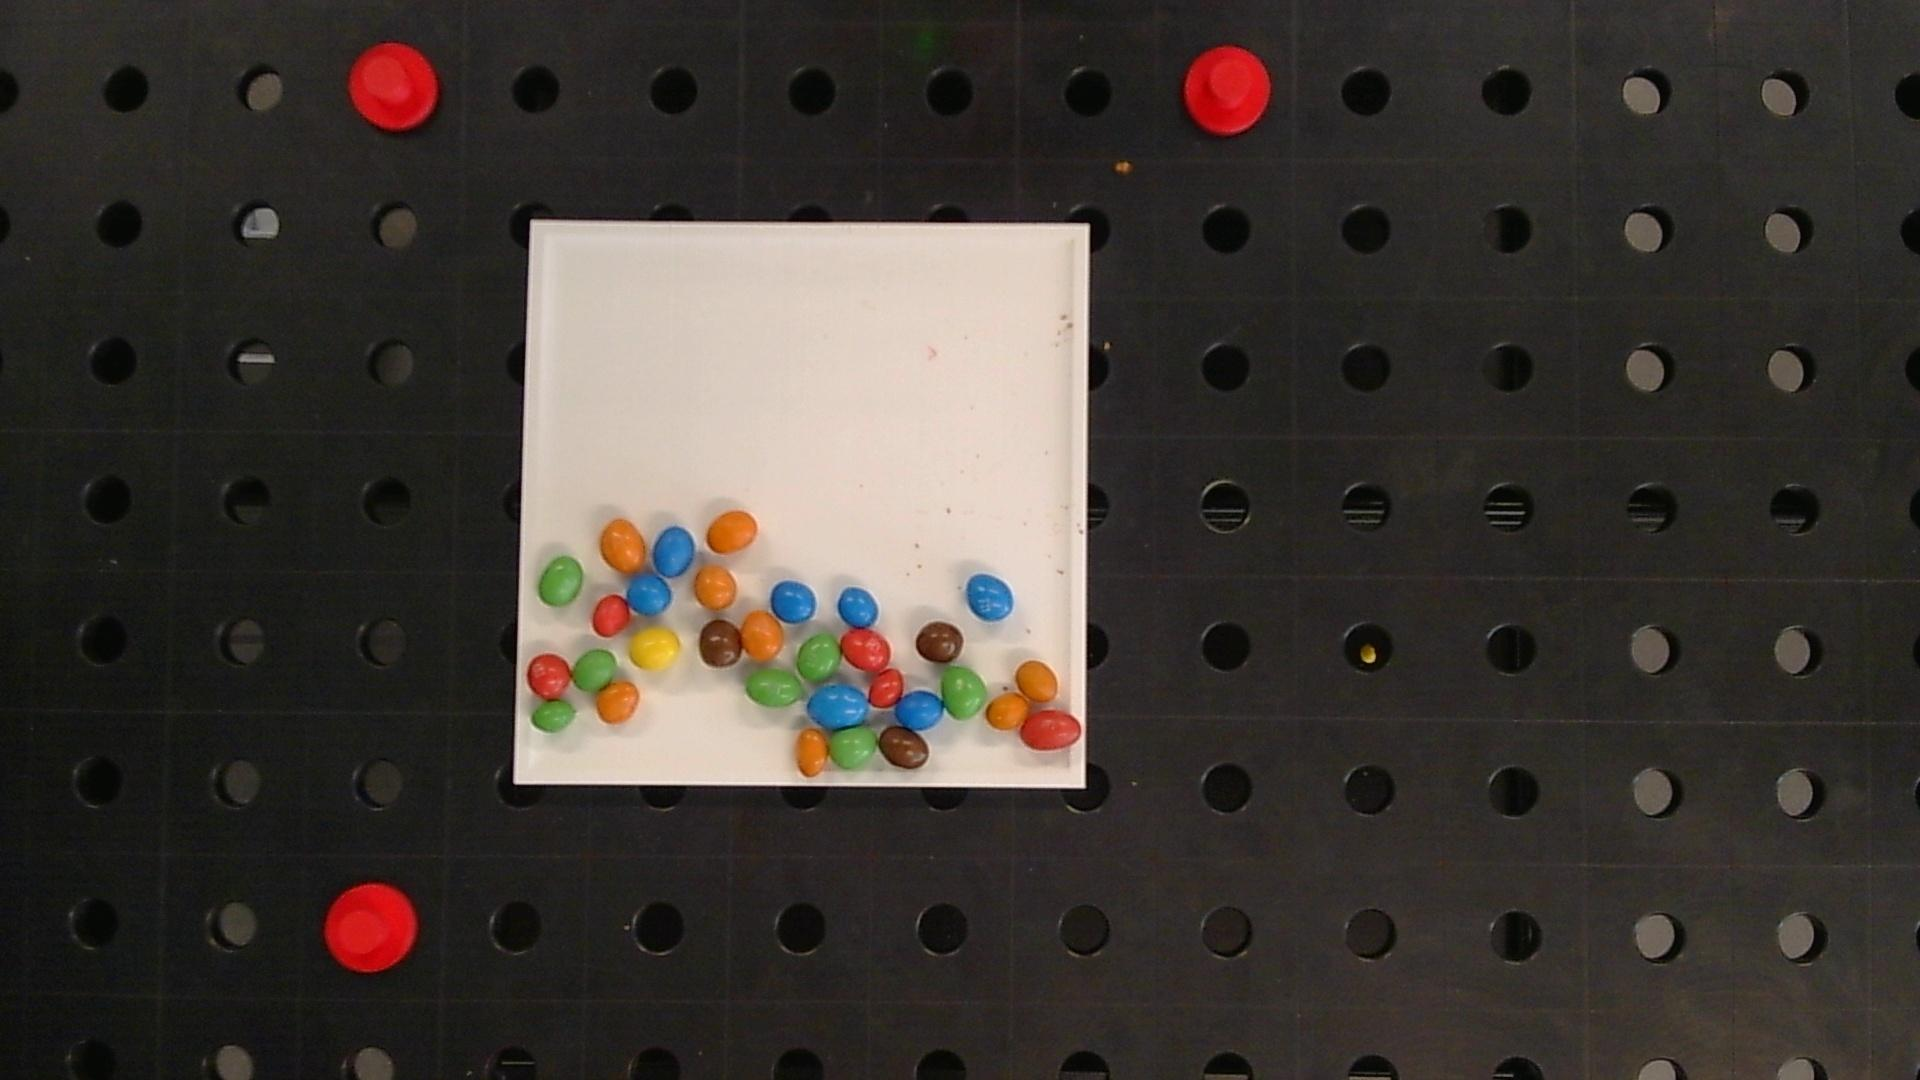blue: (808, 684, 869, 728), (967, 574, 1014, 620), (653, 526, 695, 576), (771, 580, 818, 622), (895, 691, 944, 729), (626, 574, 671, 615), (837, 587, 878, 628)
brown: (878, 725, 930, 769), (699, 620, 742, 669), (915, 621, 964, 663)
green: (942, 666, 986, 719), (538, 556, 584, 605), (746, 670, 802, 708), (796, 634, 840, 682), (831, 727, 878, 769), (574, 650, 616, 691), (531, 700, 578, 733)
orange: (600, 518, 646, 572), (707, 510, 758, 553), (741, 611, 783, 662), (694, 566, 737, 611), (596, 680, 640, 724), (1015, 661, 1058, 703), (796, 728, 829, 777), (986, 694, 1029, 729)
red: (1019, 711, 1081, 749), (526, 653, 572, 699), (841, 629, 890, 670), (592, 595, 630, 637), (869, 669, 903, 707)
yellow: (629, 626, 680, 671)
